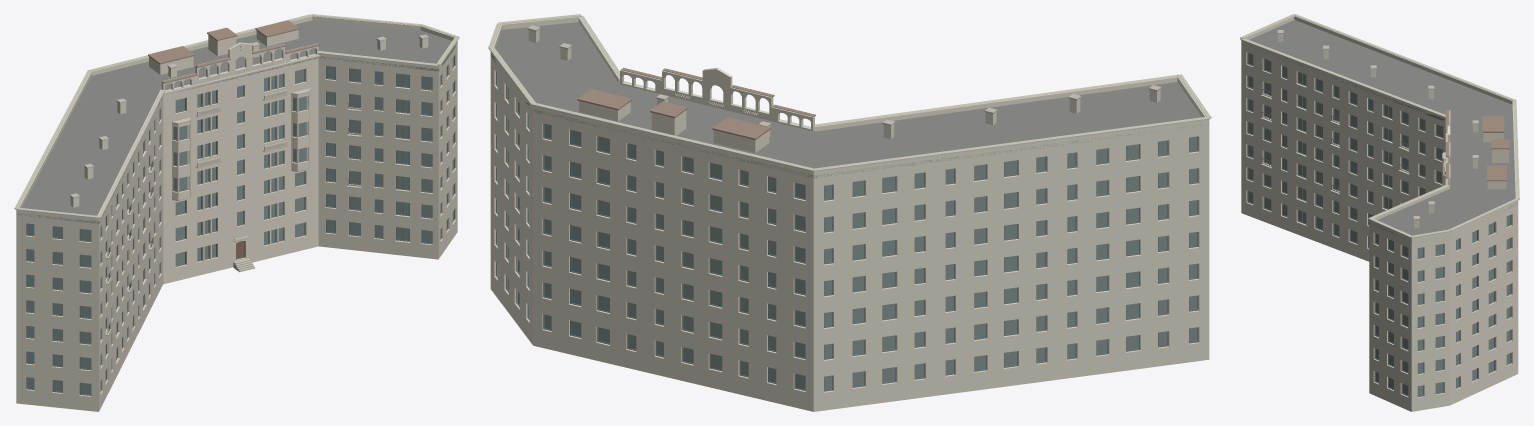
Rendered from jingan-brookside-apartments-lod.glb.
The picture shows the model from 3 angles, left to right: view 1: azimuth 30°, elevation 25°; view 2: azimuth 150°, elevation 25°; view 3: azimuth 270°, elevation 25°; orthographic projection. The views are drawn at different scales.
Visible parts, largest first — view 1: 枕流公寓; view 2: 枕流公寓; view 3: 枕流公寓.
Part boxes in pixels (bbox=[...]): 枕流公寓: bbox=[14, 14, 459, 411]; 枕流公寓: bbox=[488, 14, 1211, 411]; 枕流公寓: bbox=[1240, 14, 1519, 411].
Size of the model in its own units: 69.29 by 28.89 by 36.66.
